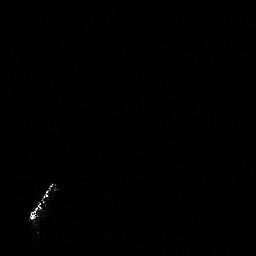ship: (26, 178, 60, 224)
